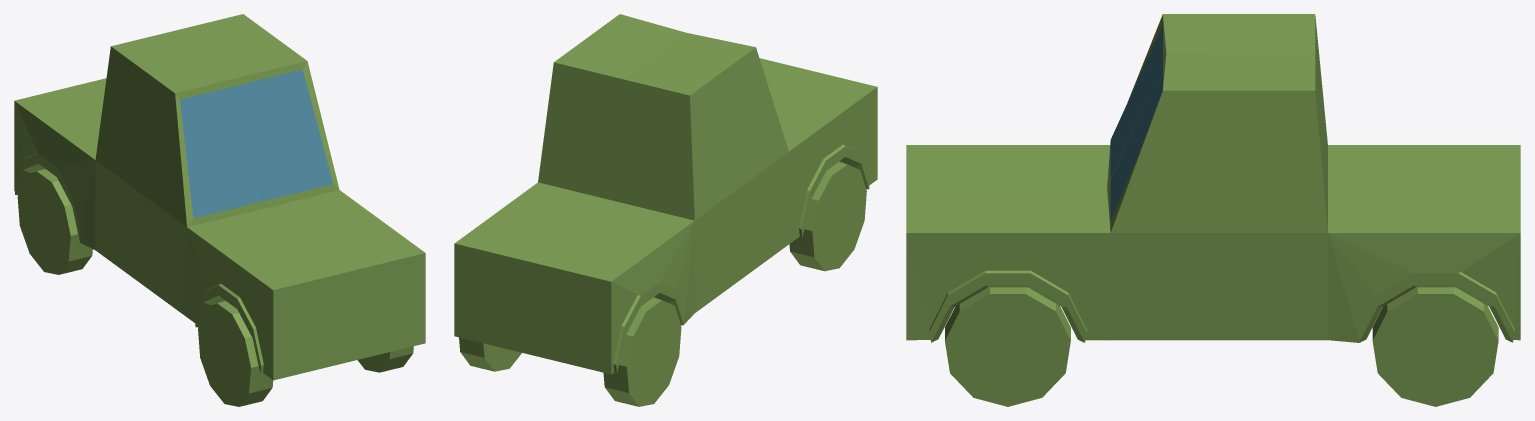
File: Car.obj
3 renders of one model, left to right at view 1: azimuth 30°, elevation 25°; view 2: azimuth 150°, elevation 25°; view 3: azimuth 270°, elevation 25°, orthographic. The views are drawn at different scales.
Visible parts, largest first — view 1: Cube; view 2: Cube; view 3: Cube.
Boxes of the visible parts, bbox=[...] form: Cube: bbox=[14, 14, 425, 406]; Cube: bbox=[454, 14, 877, 406]; Cube: bbox=[906, 14, 1520, 406].
Bounding box in the file's own units: 2.44 × 3.68 × 6.67.
